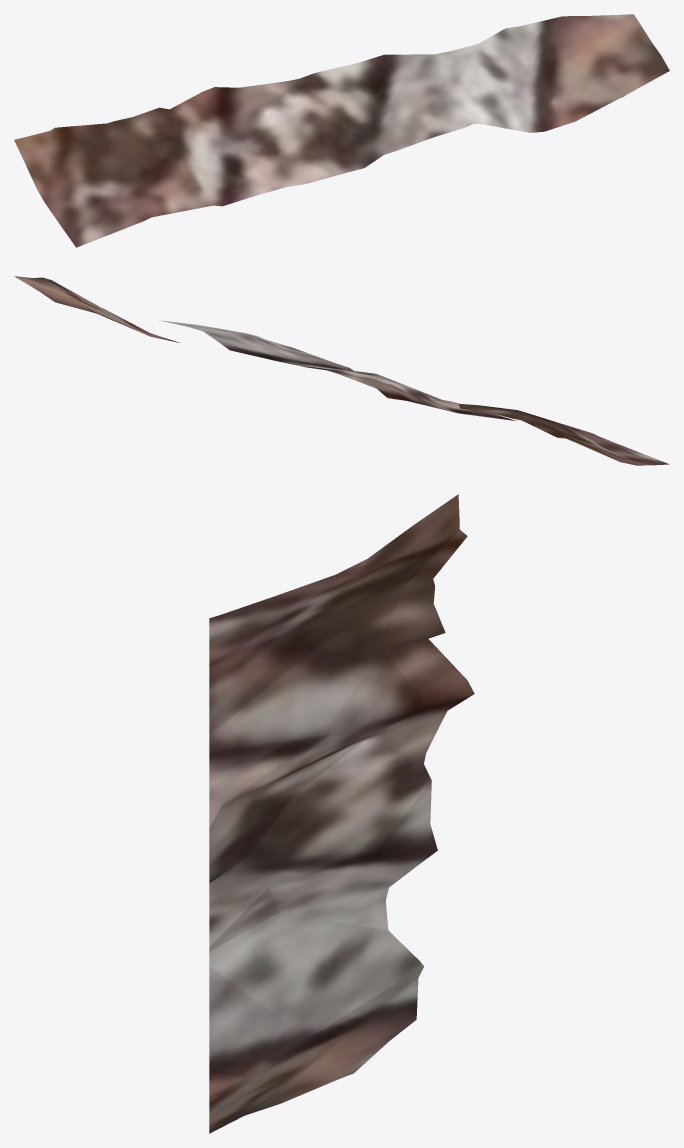
3 views of the same model, one above another, from view 1: azimuth 30°, elevation 25°; view 2: azimuth 150°, elevation 25°; view 3: azimuth 270°, elevation 25° (orthographic). The views are drawn at different scales.
Size of the model in its own units: 0.8374 by 0.0838 by 0.1622.
Materials: 1 (1 with a texture image).
